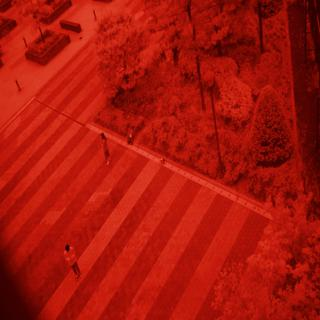person: (60, 237, 87, 284), (94, 127, 118, 168)
